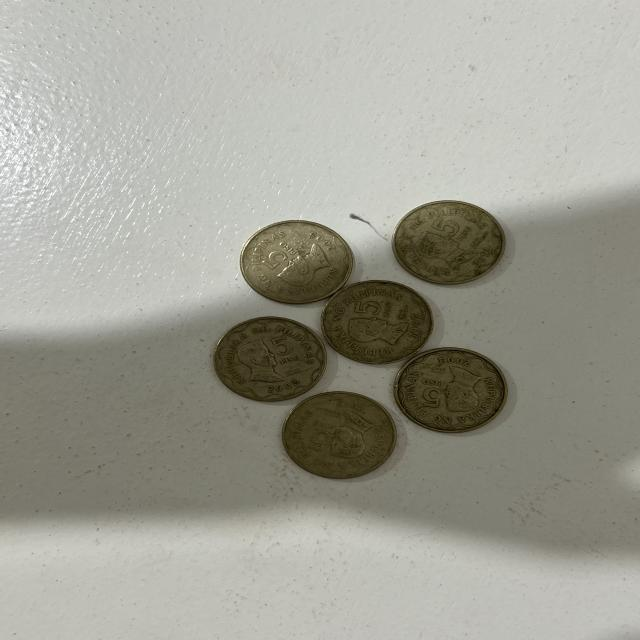5_Old_Front: (426, 212, 477, 245), (349, 295, 400, 322), (266, 336, 300, 375), (304, 417, 336, 458), (258, 242, 295, 274), (421, 376, 446, 410)
